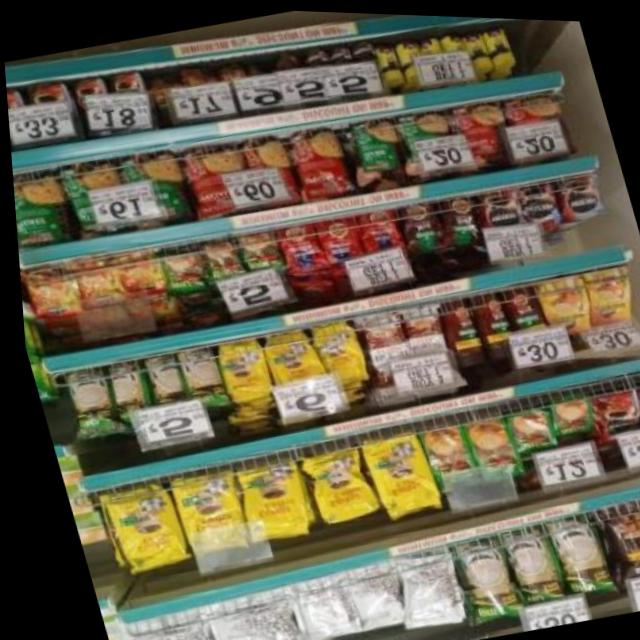Coffee: (21, 75, 84, 148), (530, 270, 590, 334), (575, 259, 634, 322), (582, 373, 639, 438), (17, 264, 77, 320), (105, 246, 161, 300), (67, 71, 116, 131), (100, 68, 152, 123), (66, 253, 117, 307), (549, 167, 600, 216), (5, 85, 37, 155), (474, 182, 522, 228), (513, 173, 558, 220), (297, 42, 331, 71), (347, 35, 377, 63), (326, 38, 357, 65), (632, 368, 640, 429)
